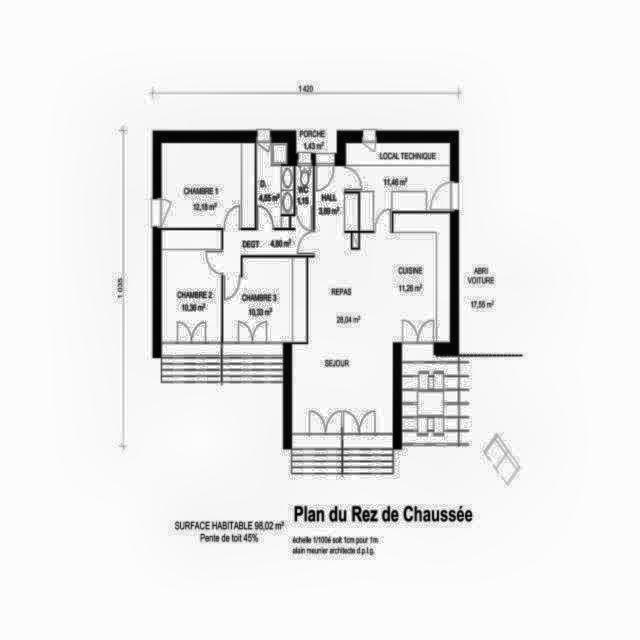room: (291, 153, 452, 450), (346, 143, 459, 233), (211, 204, 325, 280), (223, 257, 307, 358), (161, 143, 255, 230), (161, 229, 223, 357), (256, 143, 294, 230), (295, 166, 313, 208)
